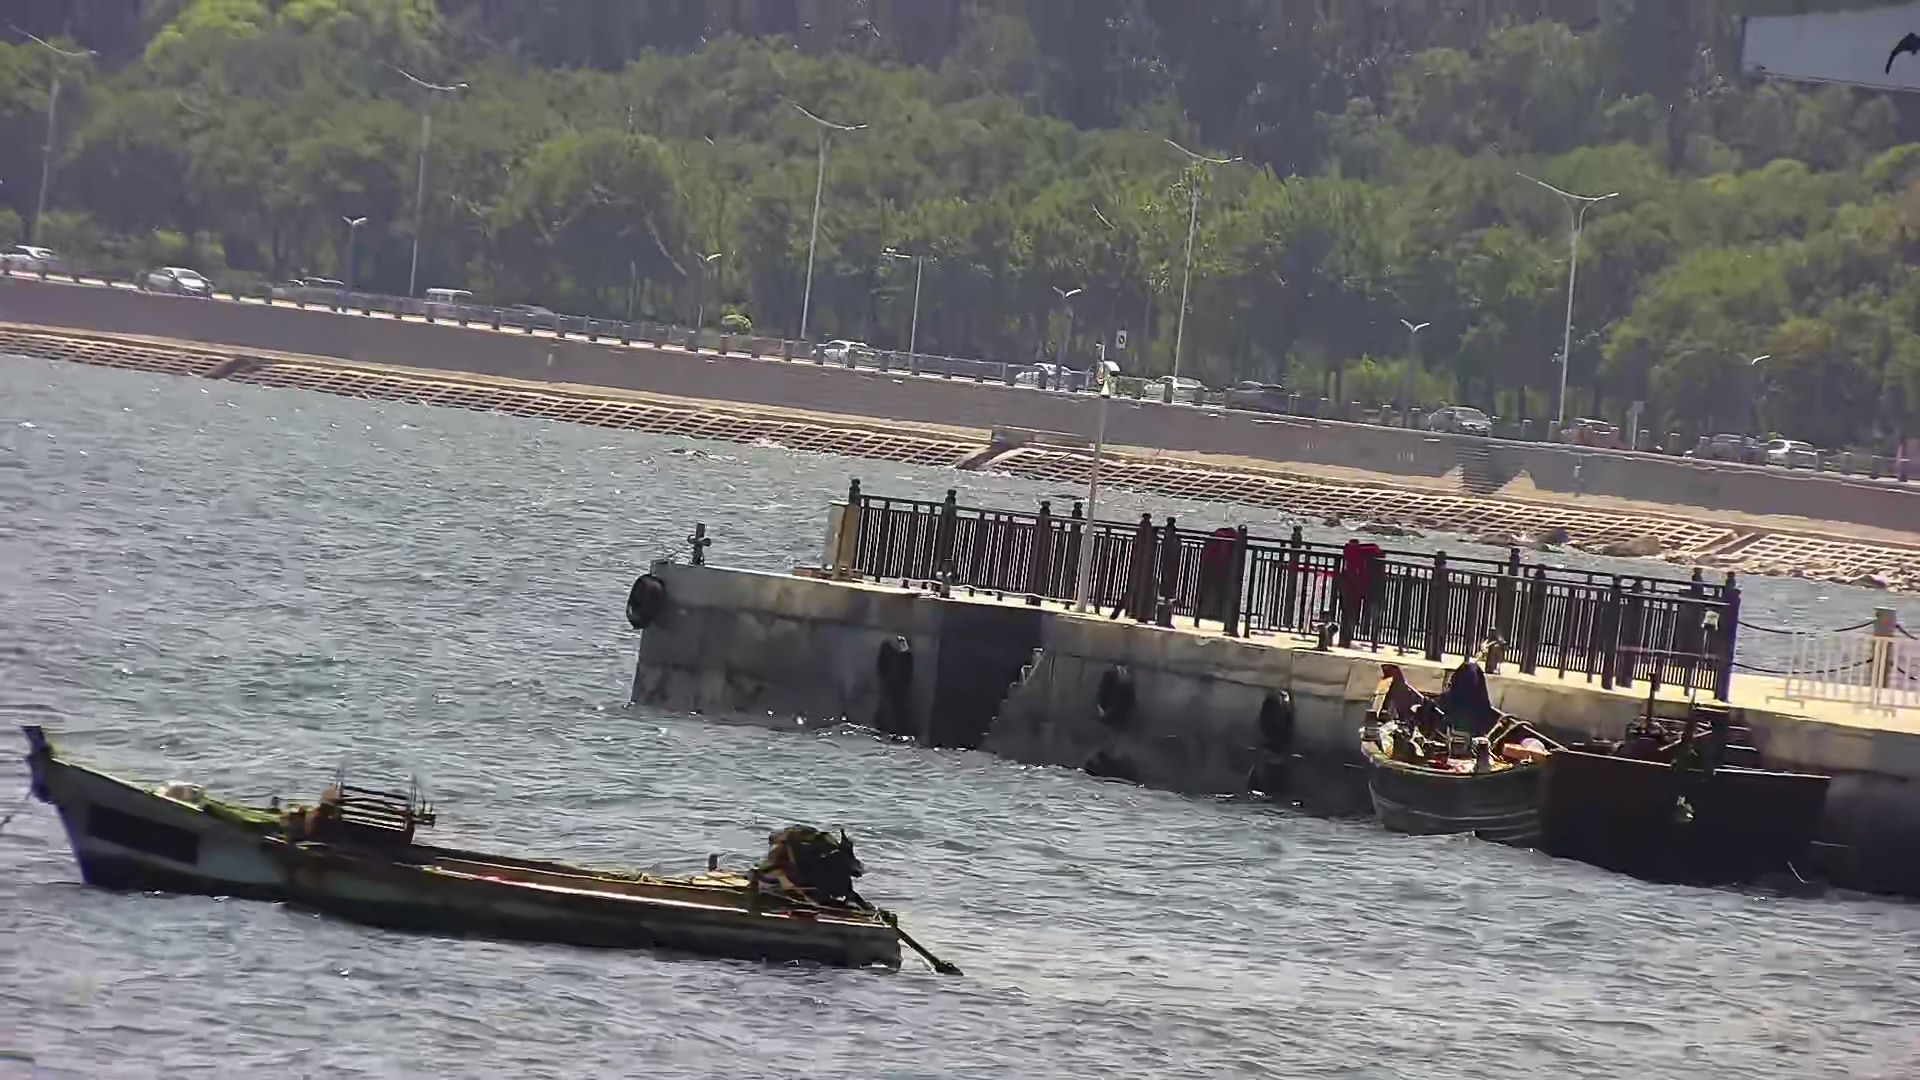boat: (215, 770, 967, 978), (1348, 665, 1851, 906), (8, 709, 558, 899)
harbor: (621, 473, 1920, 822)
